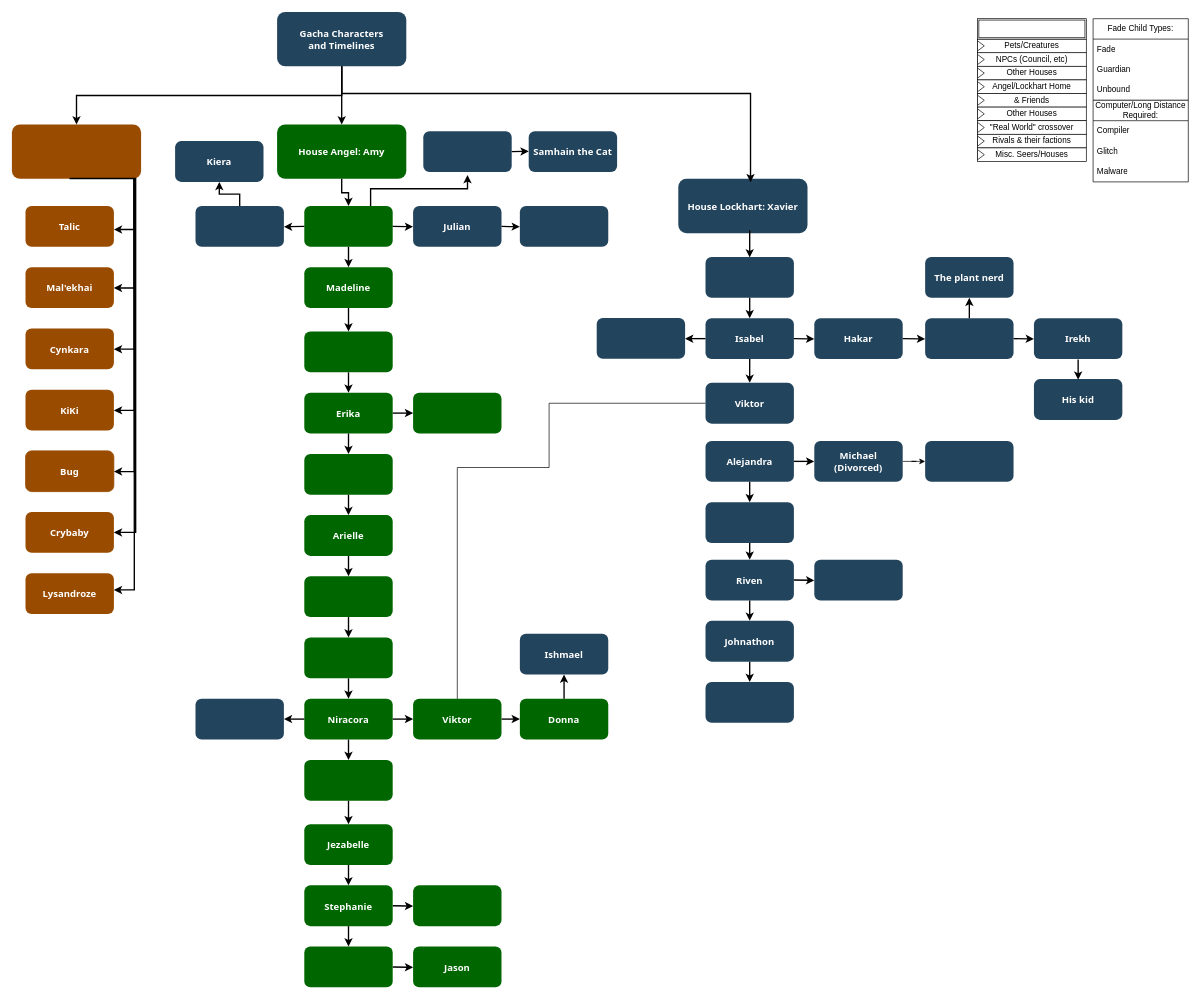
Some shapes in this 1200 by 999 pixel diagram are drawn without their labels. Here are the shapes that lost their labels. From the top down, the centre of each, then its label:
(1031,28): C lassifications :
(76,151): Out of the Fade Realm
(467,151): Donovan the Bat
(239,226): Volo
(348,226): Brea Rose
(564,226): Seth
(749,277): Havanna
(348,351): Christina
(640,338): The other daughter
(969,338): Chaskra
(457,412): Xavier Lee
(348,474): Stacei
(969,461): Trinity
(749,522): Cassiopeia
(348,596): Juliette
(858,579): His sister
(348,657): Tiffany
(239,718): Fellnora
(749,702): Leo
(348,780): Haru
(457,905): Rebecca "Tribecca"
(348,966): Krystalline
